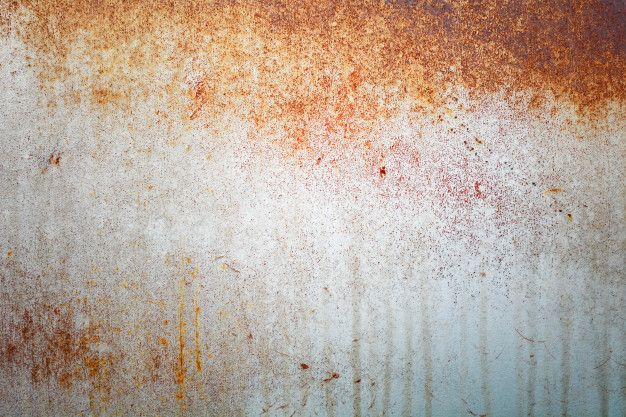rust: (309, 2, 623, 101), (15, 306, 103, 376), (32, 8, 154, 52)
